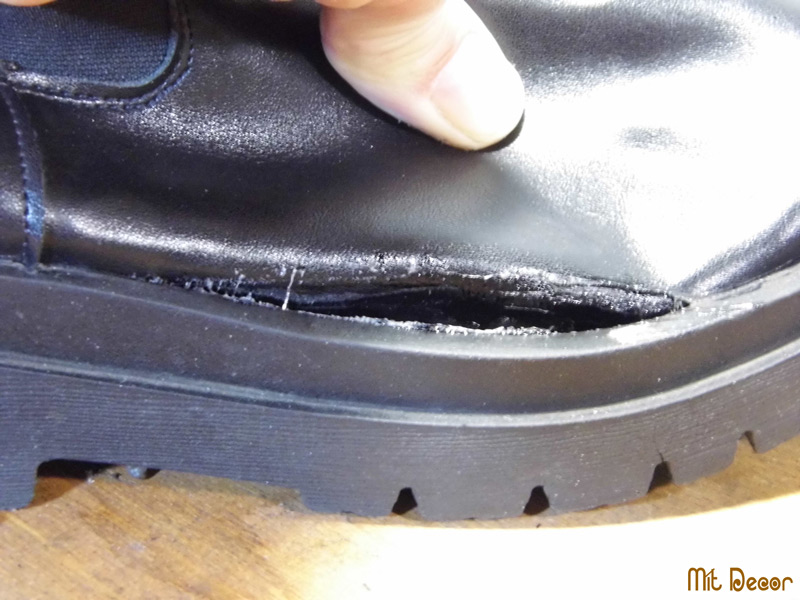bonding: (198, 267, 694, 354)
